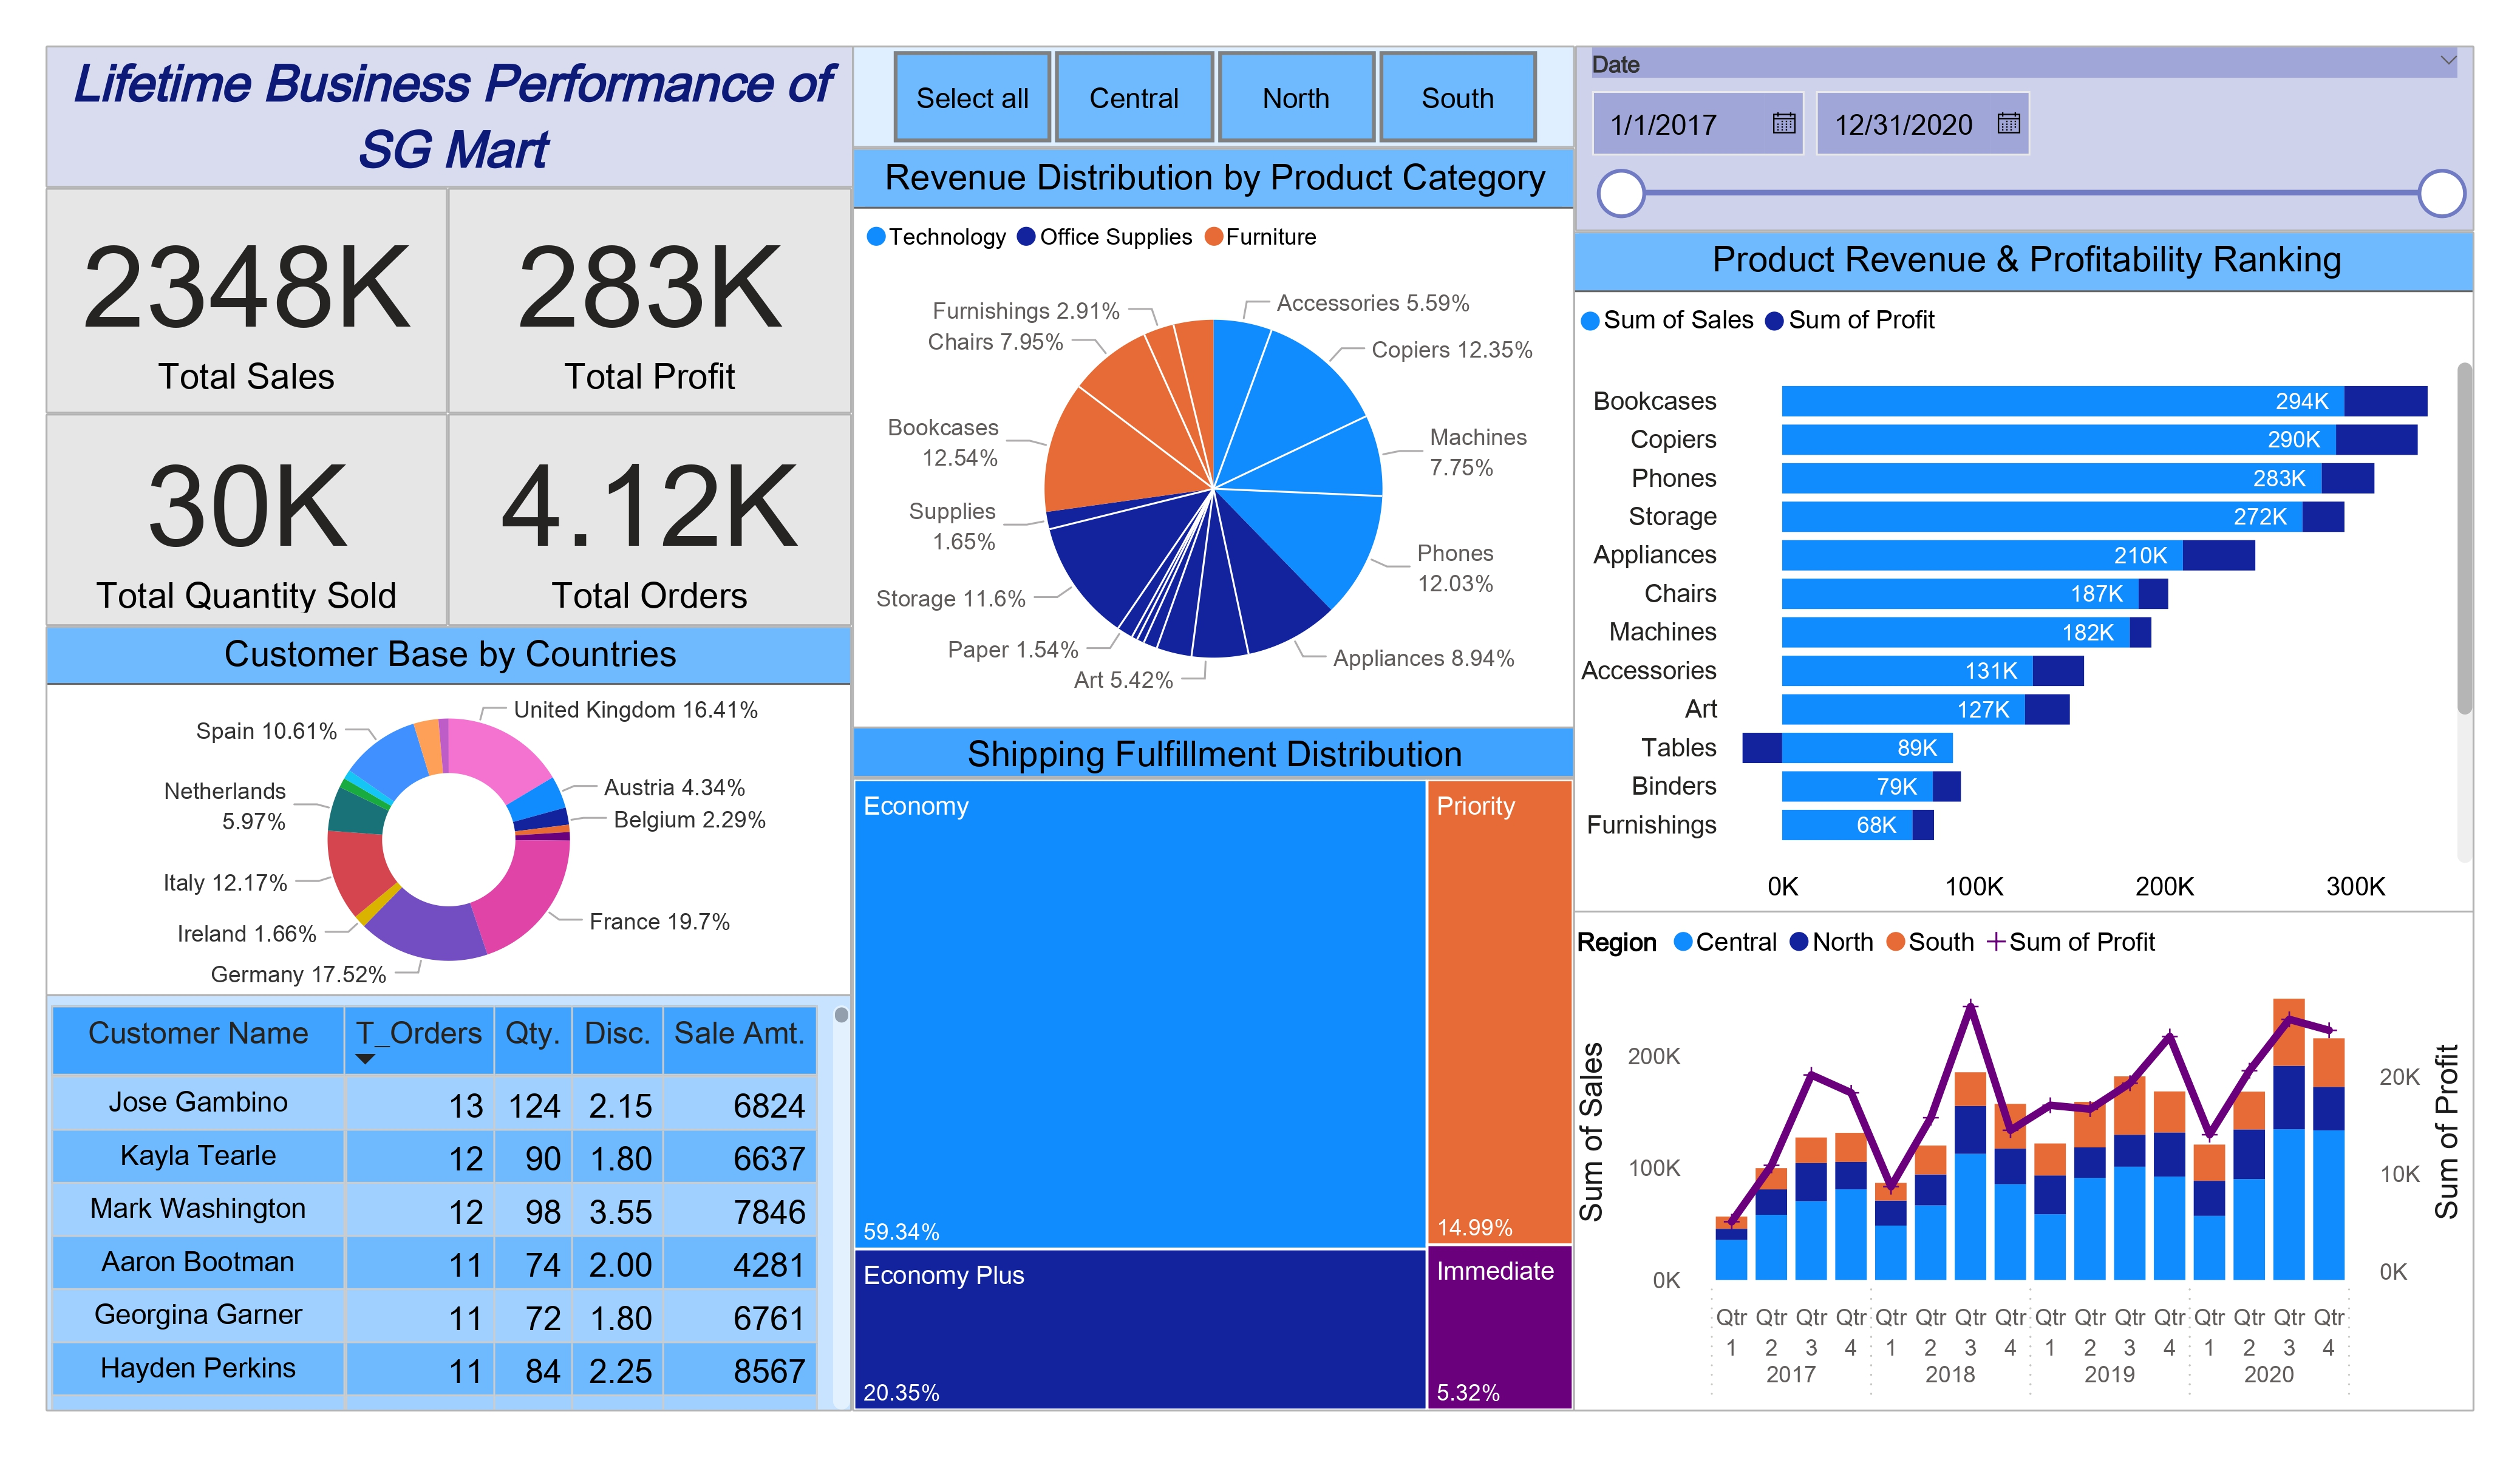

Layout of this report page (visuals, bound fields, positions):
{"tool":"powerbi","page":{"name":"Sales Chart","canvas":[1280,720],"ordinal":0},"visuals":[{"type":"barChart","title":"Total Sales and Profit by Sub-Category","fields":{"Y":["Sum(Order Breakdown.Sales)","Sum(Order Breakdown.Profit)"],"Category":["Order Breakdown.Sub-Category"]},"box":[804.7,97.7,475.3,360.7],"z":0},{"type":"pieChart","title":"Total Sales by Category and Sub-Category","fields":{"Y":["Sum(Order Breakdown.Sales)"],"Category":["Order Breakdown.Category"],"Series":["Order Breakdown.Sub-Category"]},"box":[424.7,54.3,381.2,305.2],"z":1000},{"type":"treemap","title":"Ship Mode used % by Orders","fields":{"Values":["CountNonNull(List of Orders.Order ID)"],"Group":["List of Orders.Ship Mode"]},"box":[424.7,359.3,381.2,360.7],"z":2000},{"type":"lineStackedColumnComboChart","fields":{"Category":["List of Orders.Order Date.Variation.Date Hierarchy.Year","List of Orders.Order Date.Variation.Date Hierarchy.Quarter","List of Orders.Order Date.Variation.Date Hierarchy.Month","List of Orders.Order Date.Variation.Date Hierarchy.Day"],"Y":["Sum(Order Breakdown.Sales)"],"Y2":["Sum(Order Breakdown.Profit)"],"Series":["List of Orders.Region"]},"box":[804.7,455.8,475.3,264.2],"z":3000},{"type":"pivotTable","fields":{"Values":["CountNonNull(List of Orders.Order ID)","Sum(Order Breakdown.Quantity)","Sum(Order Breakdown.Discount)","Sum(Order Breakdown.Sales)"],"Rows":["List of Orders.Customer Name"]},"box":[0,500.4,424.7,219.6],"z":4000},{"type":"card","fields":{"Values":["Sum(Order Breakdown.Sales)"]},"box":[0,54.3,212.3,126.7],"z":5000},{"type":"card","fields":{"Values":["Sum(Order Breakdown.Profit)"]},"box":[212.3,54.3,213.5,126.7],"z":6000},{"type":"card","fields":{"Values":["Sum(Order Breakdown.Quantity)"]},"box":[0,179.8,212.3,126.7],"z":7000},{"type":"card","fields":{"Values":["CountNonNull(List of Orders.Order ID)"]},"box":[212.3,179.8,212.3,126.7],"z":8000},{"type":"textbox","box":[0,0,425.9,54.3],"z":9000},{"type":"slicer","fields":{"Values":["List of Orders.Region"]},"box":[424.7,0,381.2,54.3],"z":10000},{"type":"slicer","fields":{"Values":["List of Orders.Order Date"]},"box":[805.9,0,474.1,95.3],"z":11000},{"type":"donutChart","title":"Total Customers and Sales by Countries","fields":{"Y":["Count(List of Orders.Customer Name)"],"Series":["List of Orders.Country"]},"box":[0,306.4,424.7,194.2],"z":12000}]}

Visuals, with their boxes on the page's 1280x720 design canvas (x1, y1, x2, y2). These are canvas units, not pixel positions in the 2520x1457 screenshot, which may show the page scaled, cropped or inside an application window:
"Total Sales and Profit by Sub-Category" barChart: l=805, t=98, r=1280, b=458
"Total Sales by Category and Sub-Category" pieChart: l=425, t=54, r=806, b=360
"Ship Mode used % by Orders" treemap: l=425, t=359, r=806, b=720
lineStackedColumnComboChart - List of Orders.Order Date.Variation.Date Hierarchy.Year x List of Orders.Order Date.Variation.Date Hierarchy.Quarter: l=805, t=456, r=1280, b=720
pivotTable - CountNonNull(List of Orders.Order ID) x Sum(Order Breakdown.Quantity): l=0, t=500, r=425, b=720
card - Sum(Order Breakdown.Sales): l=0, t=54, r=212, b=181
card - Sum(Order Breakdown.Profit): l=212, t=54, r=426, b=181
card - Sum(Order Breakdown.Quantity): l=0, t=180, r=212, b=306
card - CountNonNull(List of Orders.Order ID): l=212, t=180, r=425, b=306
textbox: l=0, t=0, r=426, b=54
slicer - List of Orders.Region: l=425, t=0, r=806, b=54
slicer - List of Orders.Order Date: l=806, t=0, r=1280, b=95
"Total Customers and Sales by Countries" donutChart: l=0, t=306, r=425, b=501
